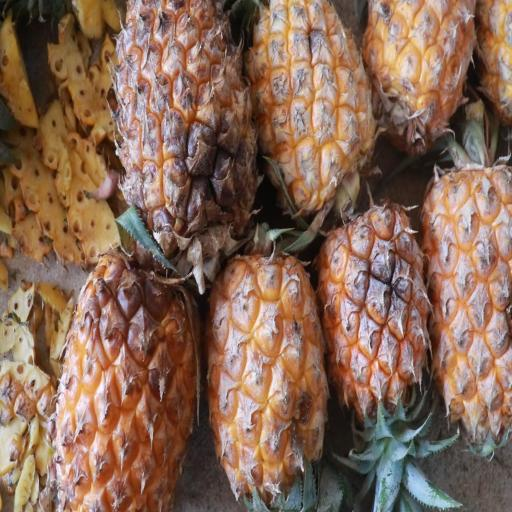Pineapple - v8 v1: (54, 213, 205, 508), (107, 0, 256, 250), (192, 237, 324, 511), (419, 128, 512, 448), (248, 4, 385, 204), (312, 185, 430, 414), (362, 0, 480, 128)
